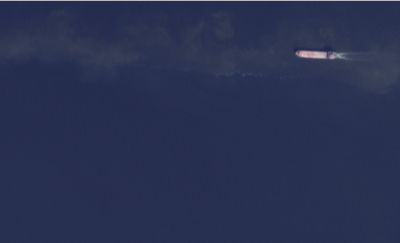boat: (295, 49, 338, 60)
